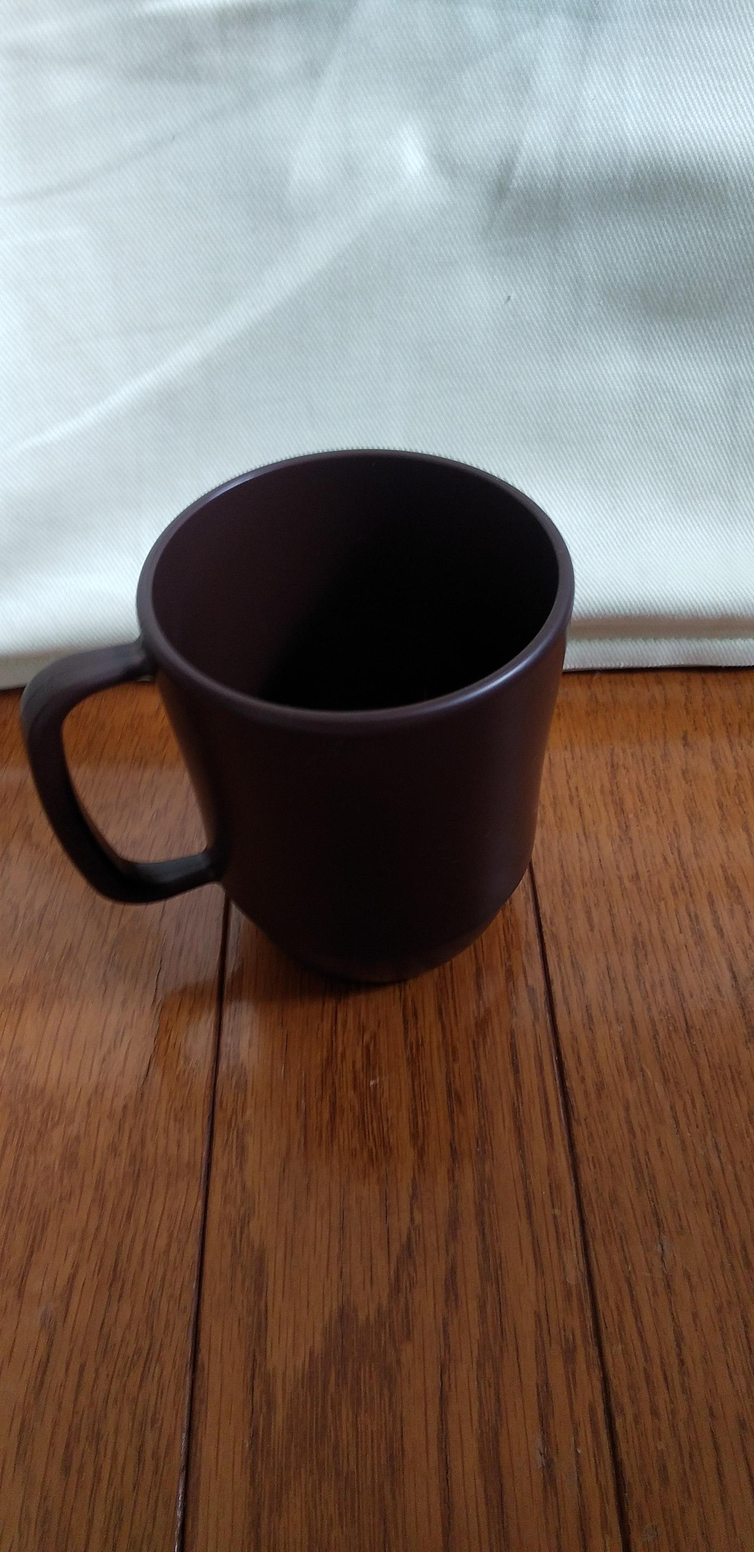mug-real100-3d100: (20, 450, 574, 982)
